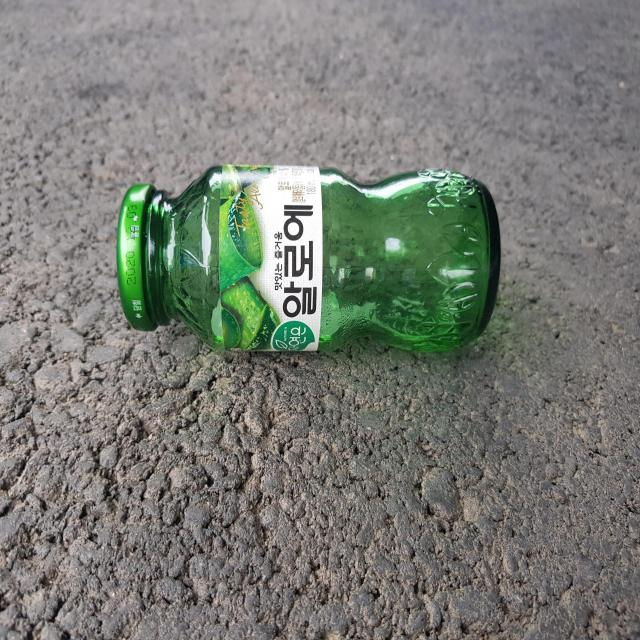glass: (117, 165, 501, 351)
